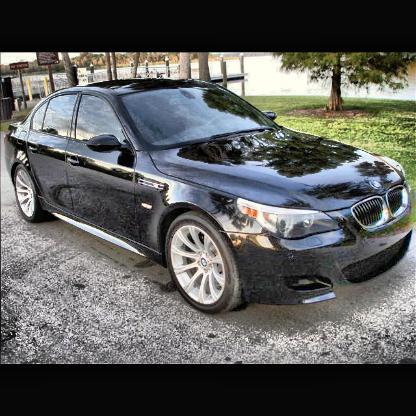BMW M5 Sedan 2010: (5, 80, 413, 314)
